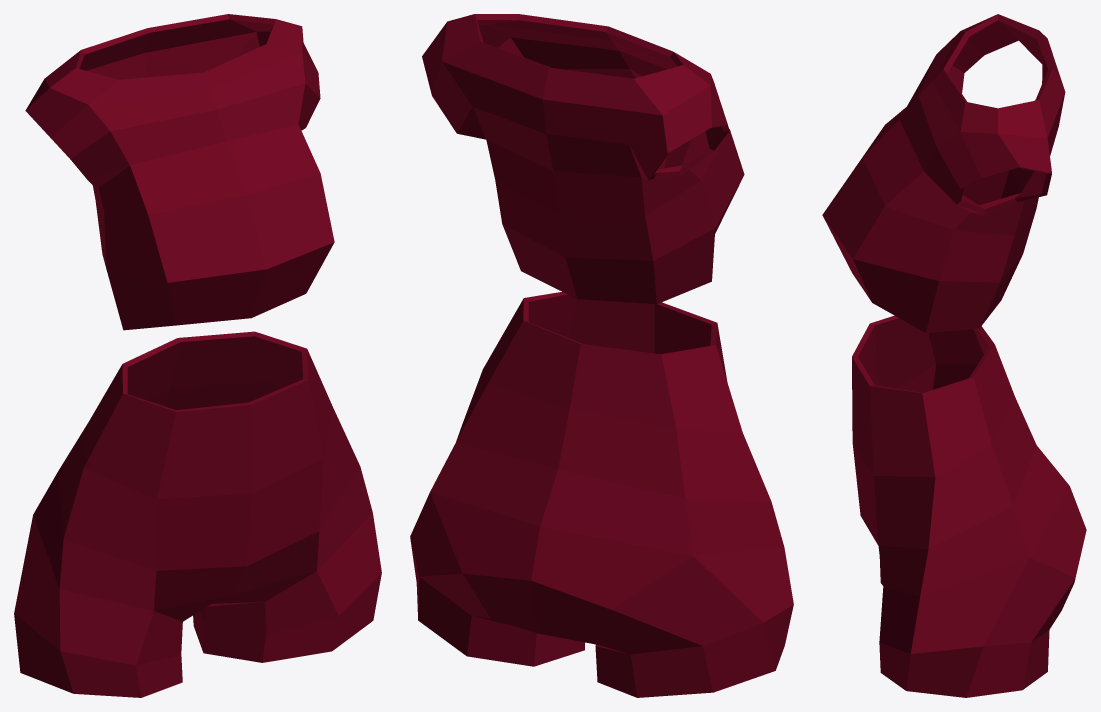
The model's file is Char-model_Female-CLOTHES2.fbx.
3 renders of one model, left to right at view 1: azimuth 30°, elevation 25°; view 2: azimuth 150°, elevation 25°; view 3: azimuth 270°, elevation 25°, orthographic. The views are drawn at different scales.
Parts seen in each view (by area): view 1: Char_Clothes1.A; view 2: Char_Clothes1.A; view 3: Char_Clothes1.A.
Part boxes in pixels (x1,y1,x2,y2): Char_Clothes1.A: (14,14,381,697); Char_Clothes1.A: (410,14,793,697); Char_Clothes1.A: (822,14,1086,697).
Size of the model in its own units: 320 by 533 by 220.
